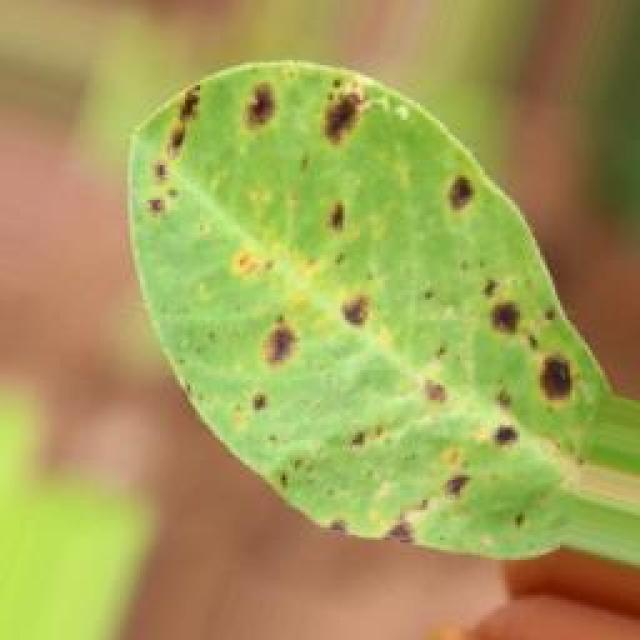Yellowish: (119, 56, 607, 550)
